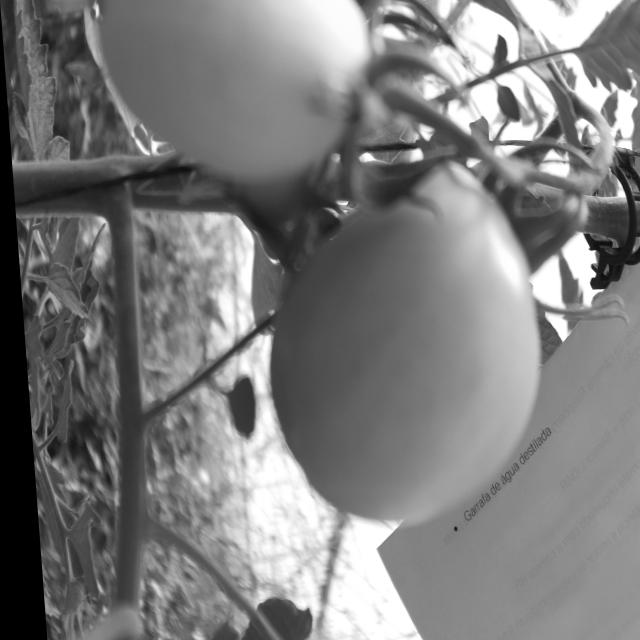yesil: (217, 118, 575, 558)
